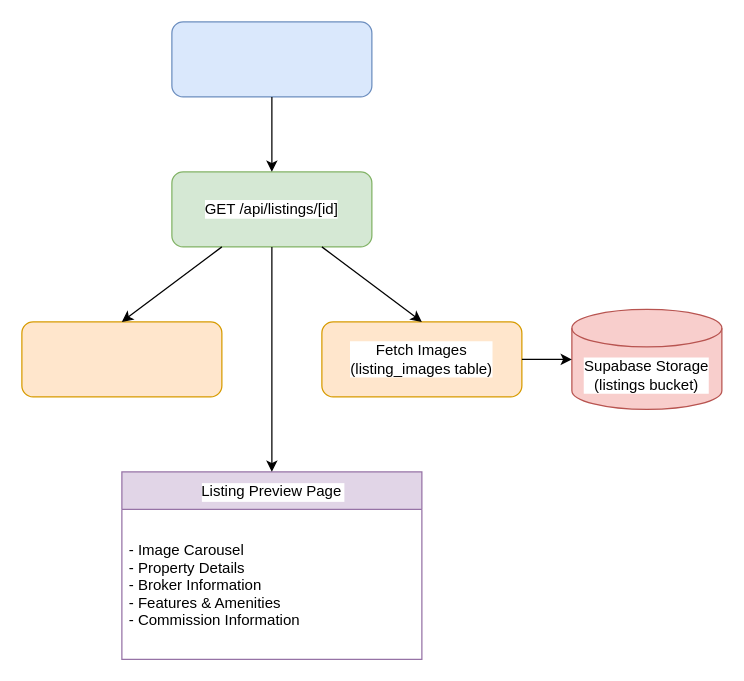
The diagram is 744 pixels wide and 681 high, and some of its shapes have lost their labels. Here are the shapes that lost their labels. From the top down, the centre of each, then its label:
At (271,59): "User Views Listing".
At (121,359): "Fetch Listing Details (listings table)".
